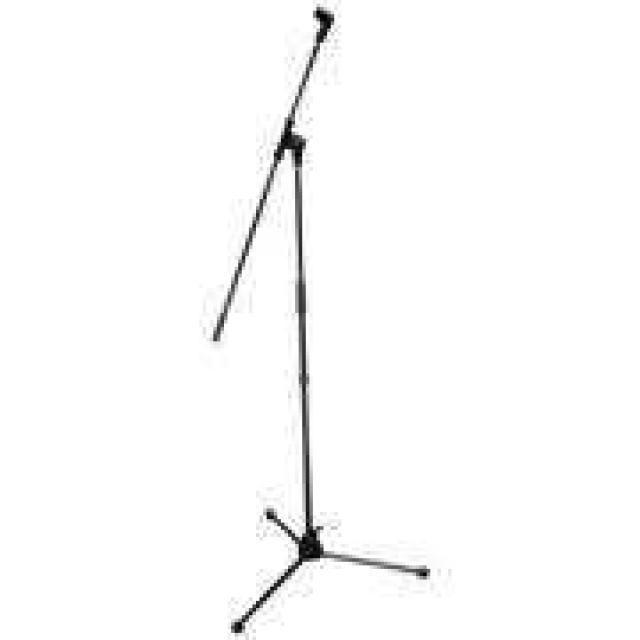microphone: (245, 0, 377, 89)
